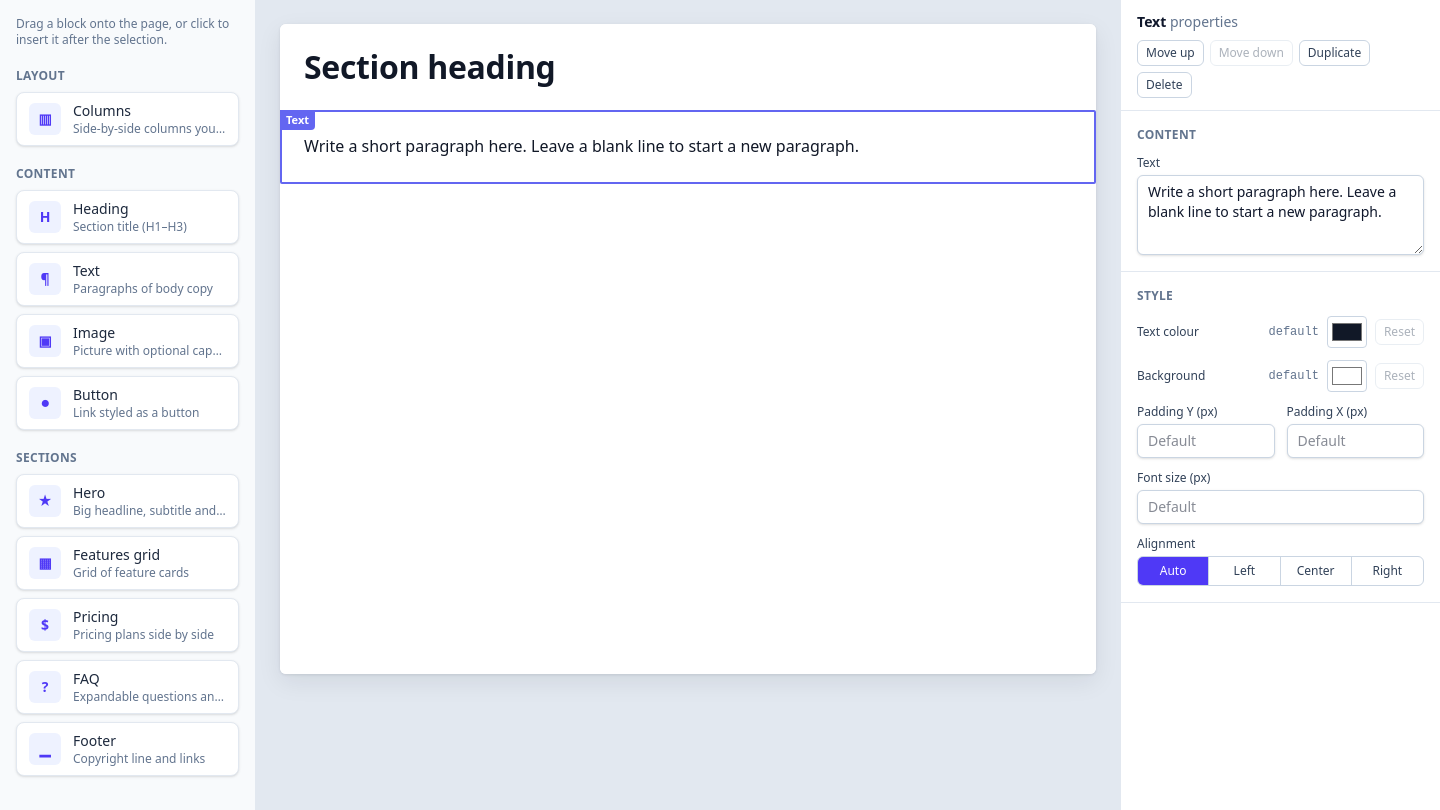
it: Canvas › selects a block on click and exposes selection to assistive tech
The image size is (1440, 810).
Click the list item "Section heading" at (430, 66), box 304,45 -> 556,88
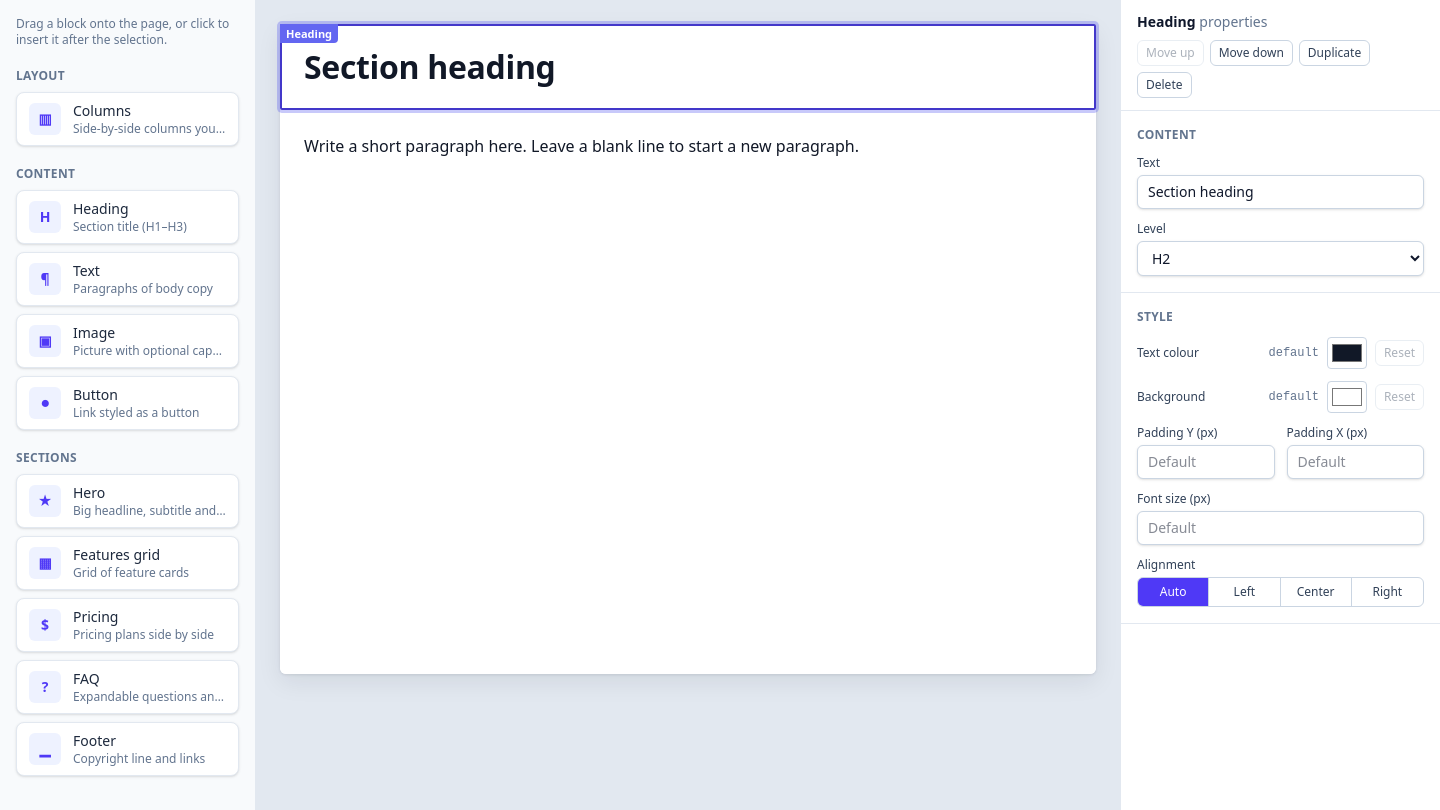
Now the list item "Heading Section heading" is selected, box 280,24 -> 556,88
Now the list item "Heading Section heading" has attribute tabindex="0", box 280,24 -> 556,88
